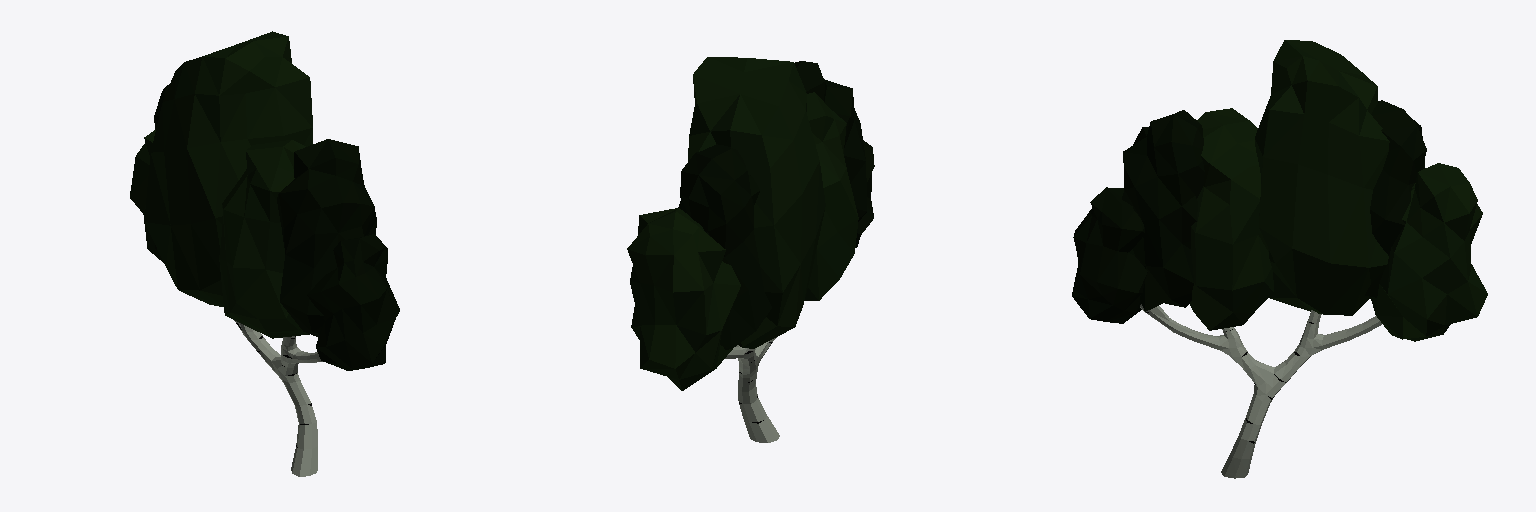
The model's file is BirchTree_4.obj.
3 views of the same model, side by side, from view 1: azimuth 30°, elevation 25°; view 2: azimuth 150°, elevation 25°; view 3: azimuth 270°, elevation 25° (orthographic).
Visible parts, largest first — view 1: BirchTree_4_Cube.070; view 2: BirchTree_4_Cube.070; view 3: BirchTree_4_Cube.070.
Boxes of the visible parts, x1,y1,x2,y2 form: BirchTree_4_Cube.070: [130, 31, 399, 476]; BirchTree_4_Cube.070: [627, 57, 874, 442]; BirchTree_4_Cube.070: [1072, 40, 1487, 478].
Size of the model in its own units: 1.15 by 3.56 by 3.29.